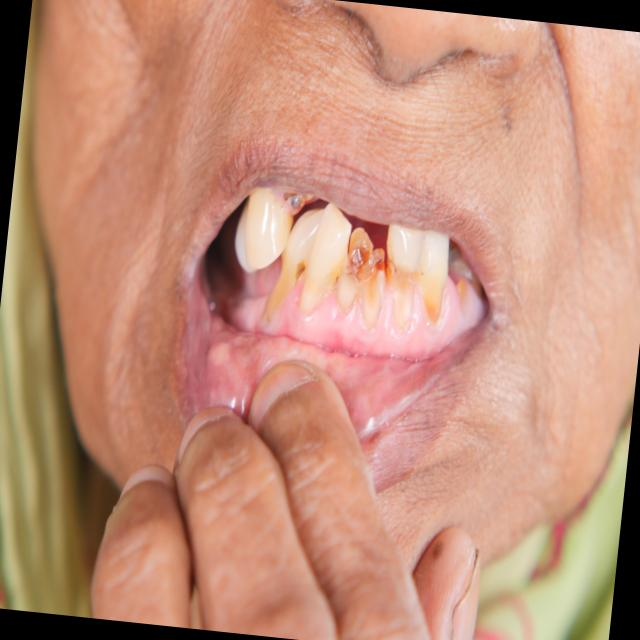Caries: (421, 273, 422, 275)
Cavity: (342, 227, 373, 285), (386, 237, 418, 292), (362, 248, 384, 280)
Tooth: (262, 207, 325, 321), (299, 202, 351, 312), (386, 225, 423, 329), (244, 189, 292, 269), (335, 227, 373, 312), (416, 229, 449, 323), (358, 247, 386, 329)
